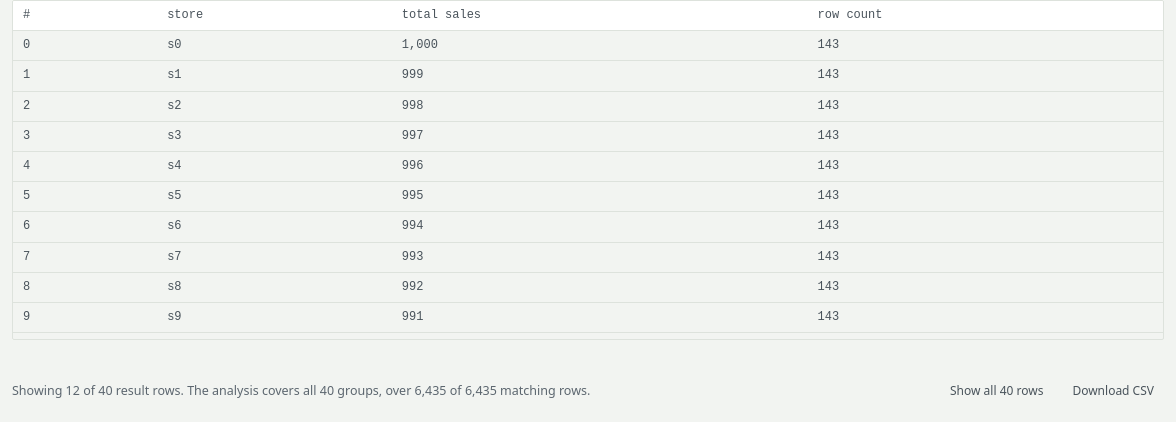
Test case: ResultPanel › shows every row on request
What coordinates should you click on to do the following:
click the button "Show all 40 rows"
I would click on:
 (997, 391)
Its box is x1=940 y1=376 x2=1053 y2=405.
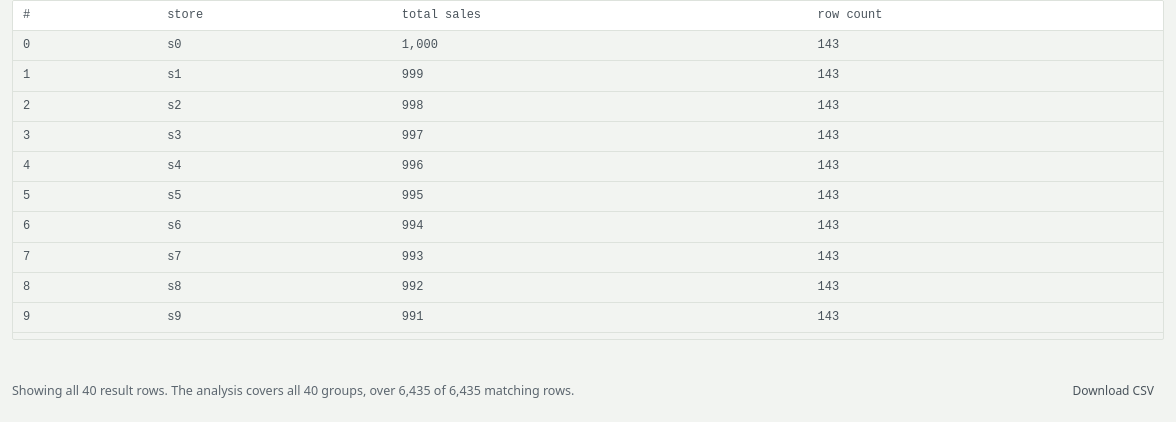
Now the button "Show all" is gone
